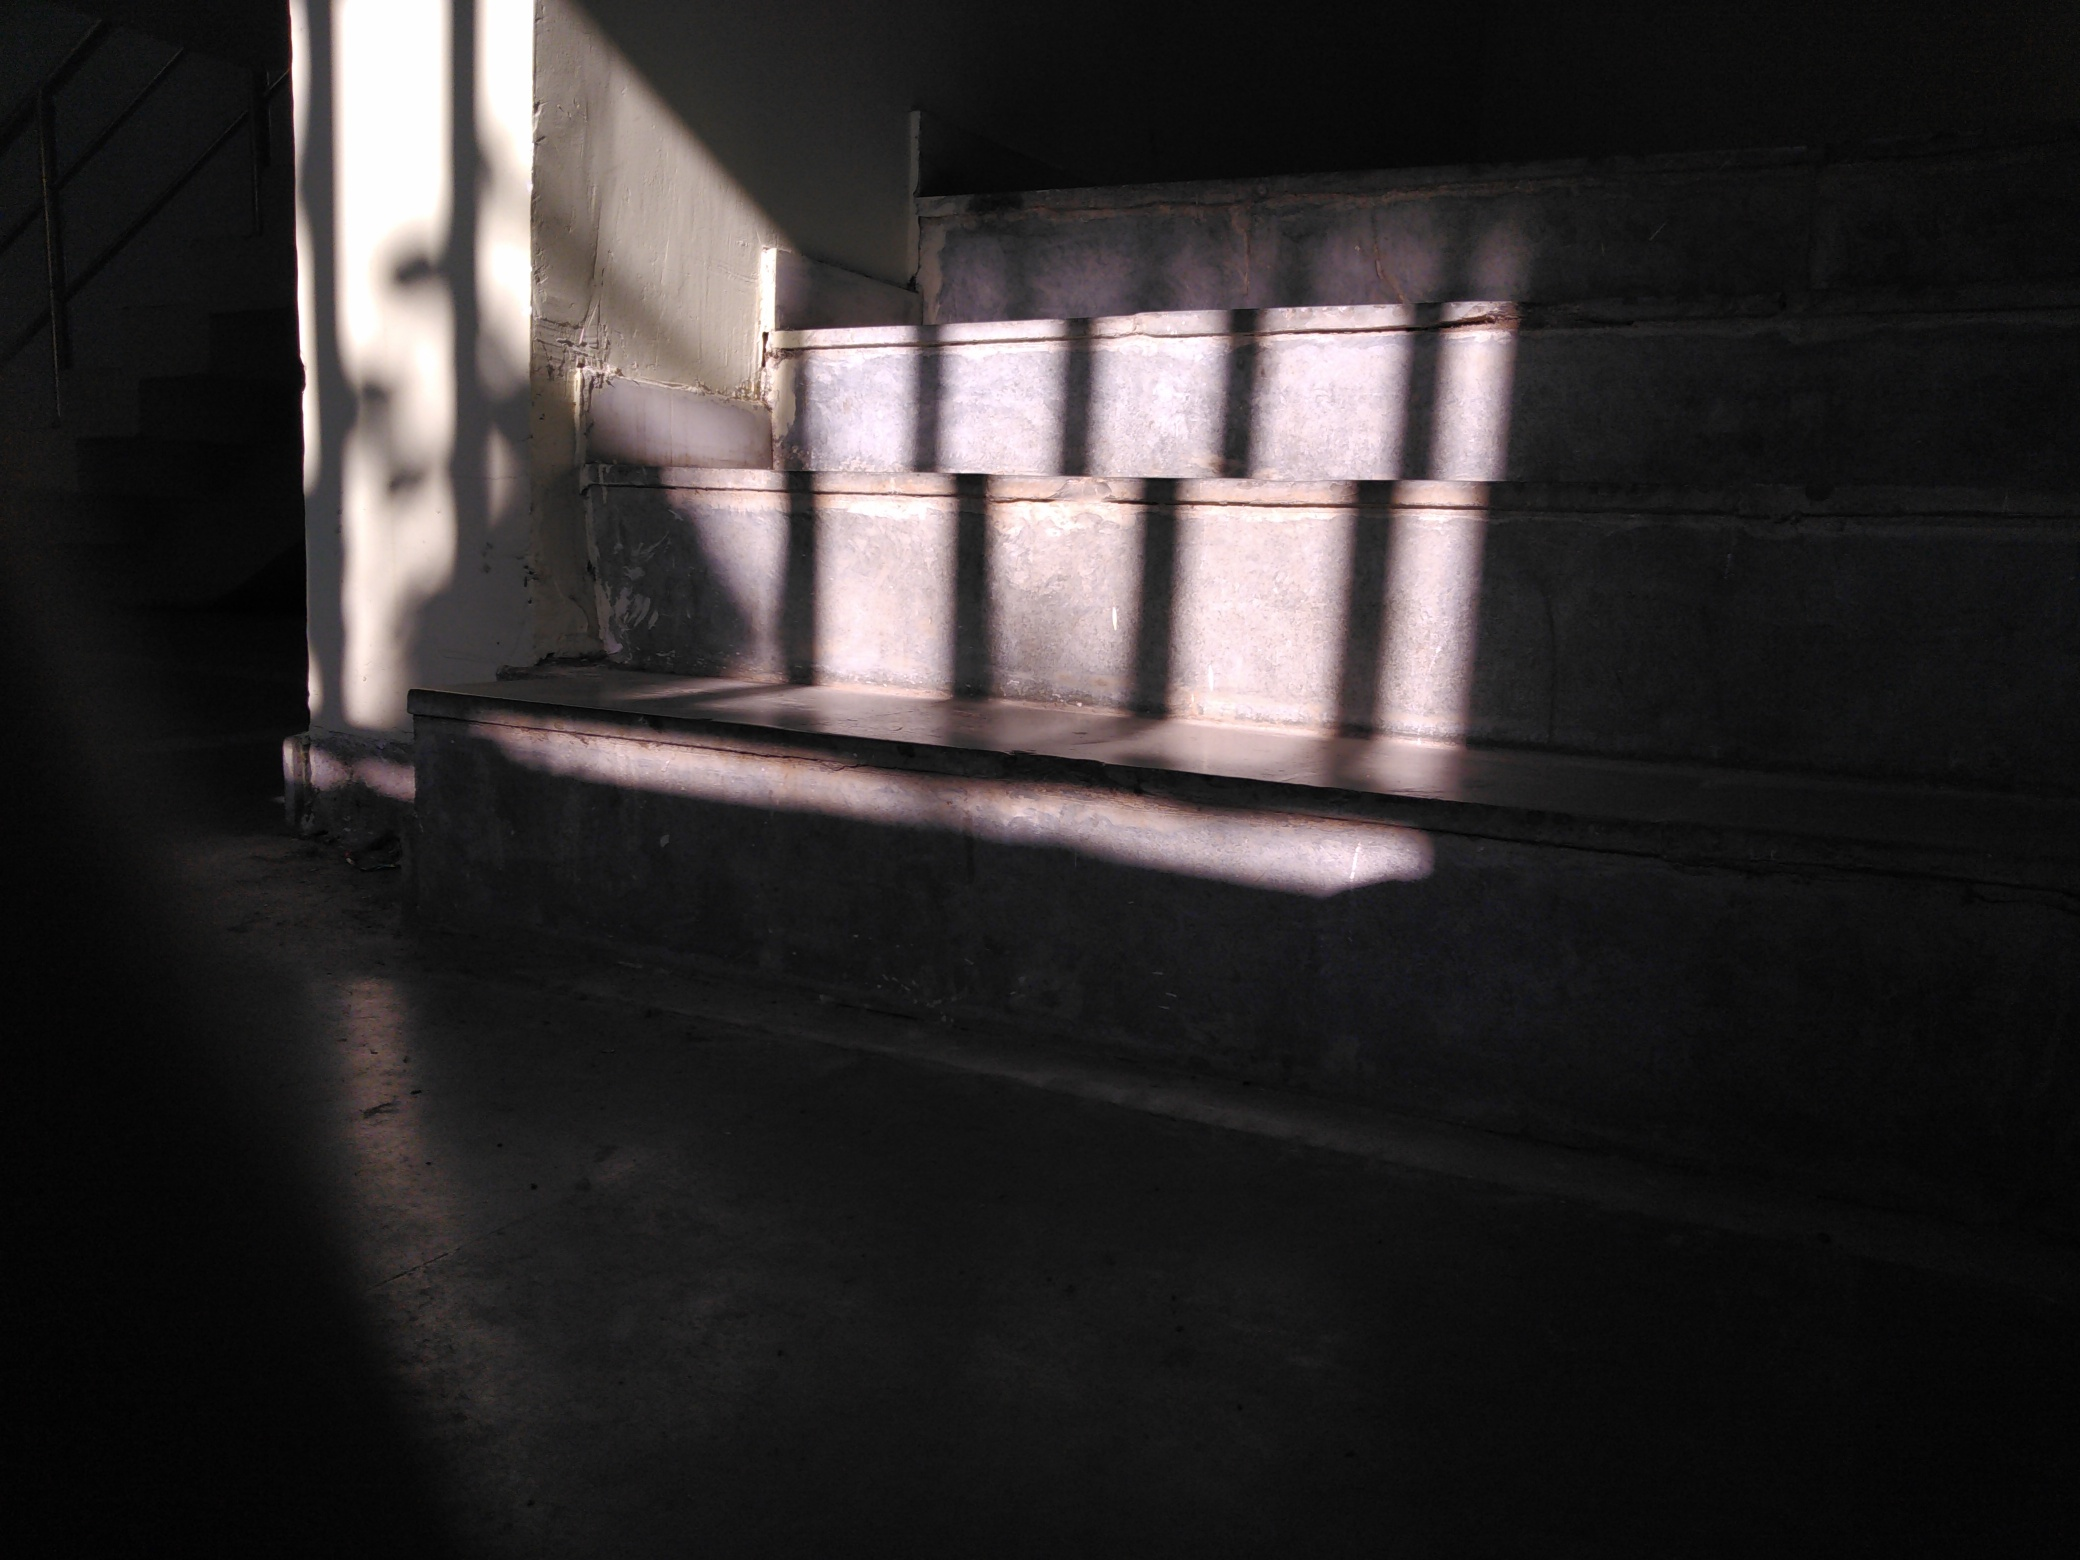stairs_up: (427, 143, 2055, 1029)
